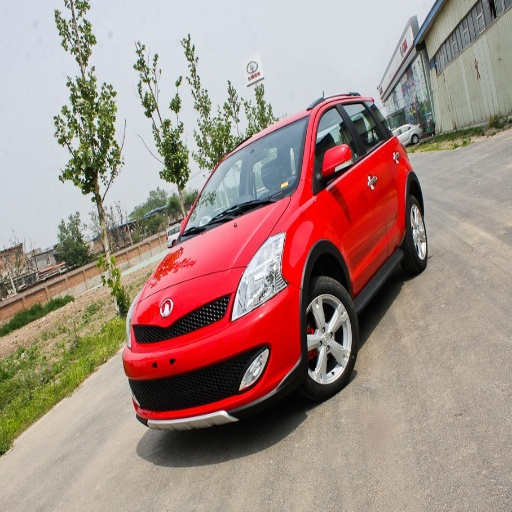front_bumper: (123, 271, 300, 426)
front_glass: (233, 122, 302, 178)
front_left_door: (311, 102, 386, 280)
